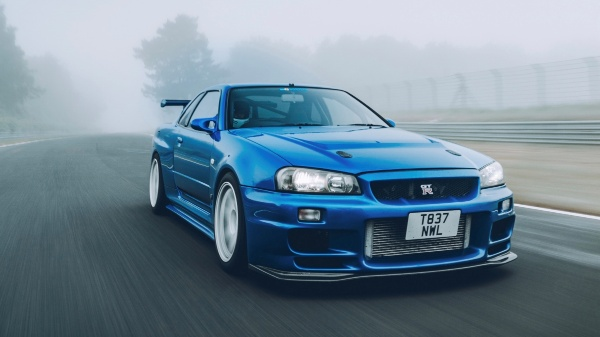licence: (402, 208, 462, 238)
